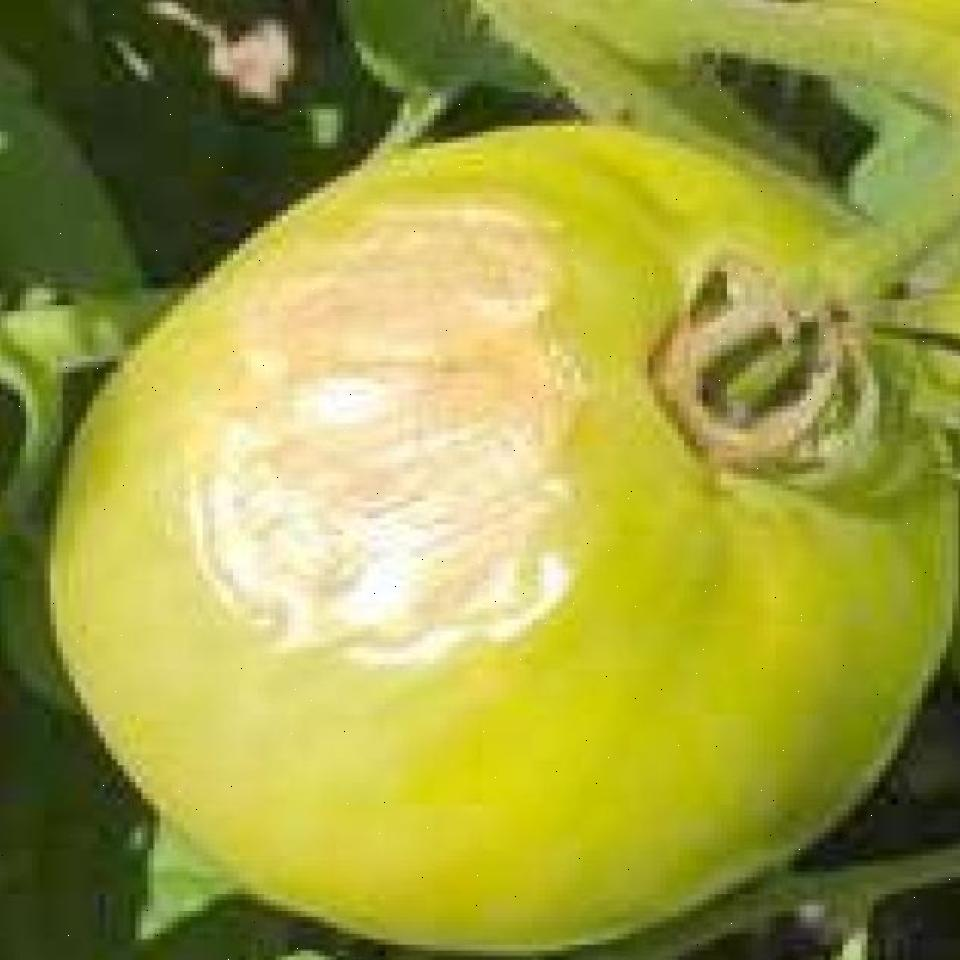Sunscald: (172, 173, 636, 667)
